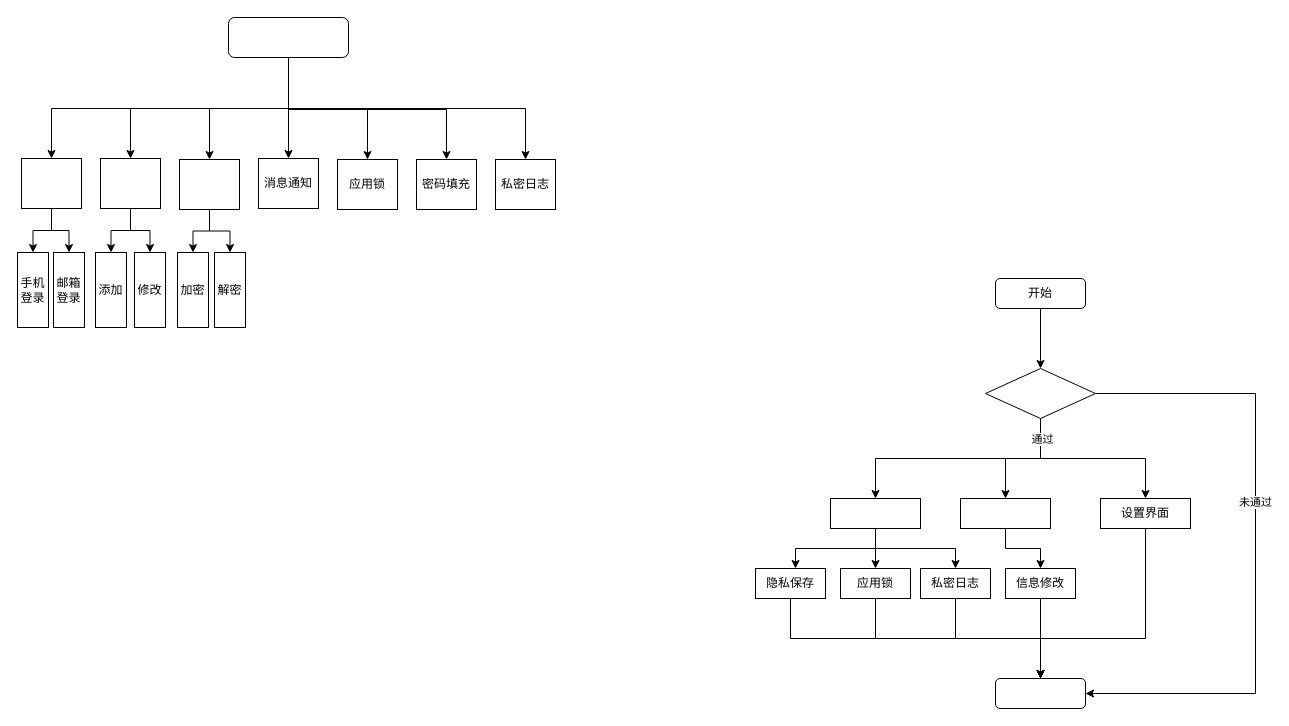
This 1289x726 diagram has some shape labels left out. The centre of each missing label's shape, as x and y in pixels:
Android应用: (288,37)
主要功能界面: (875,513)
用户信息: (130,183)
用户信息界面: (1005,513)
用户登录: (1040,393)
登录授权: (51,183)
退出: (1040,693)
隐私信息: (209,184)
